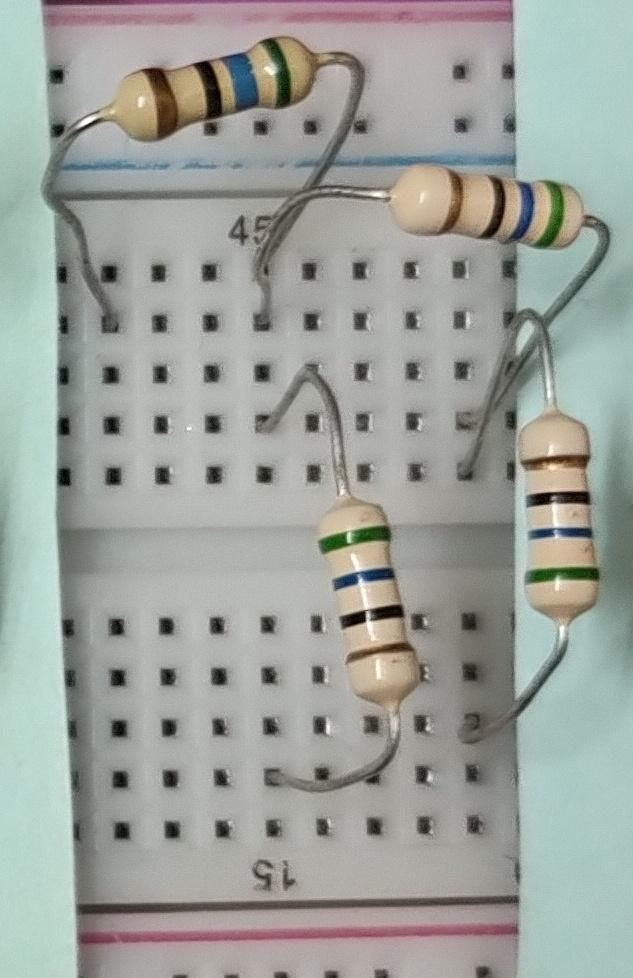resistor: (310, 472, 442, 722), (375, 140, 592, 280), (112, 20, 320, 150), (500, 405, 605, 632)
